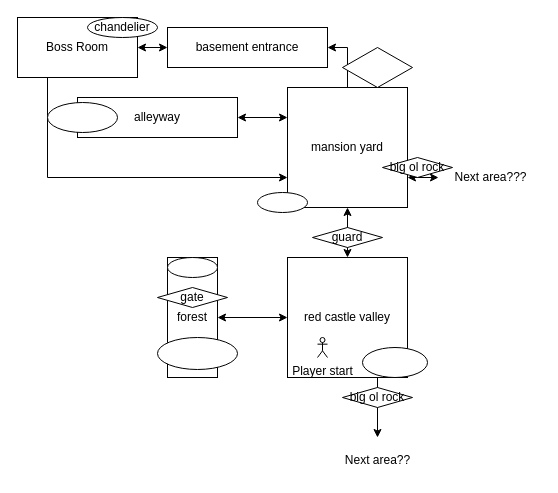
Some shapes in this 558 by 493 pixel diagram are drawn without their labels. The shapes that lost their labels are listed below. From the top down, each one's box as (x1, y1, x2, y2) in pixels, then its label:
(342, 46, 412, 88): eagle statue
(46, 102, 118, 132): statue key (in dirt)
(256, 192, 308, 212): shovel
(166, 256, 218, 278): sword
(156, 336, 238, 370): pickle for guard
(362, 346, 428, 378): gate key (in dirt)
